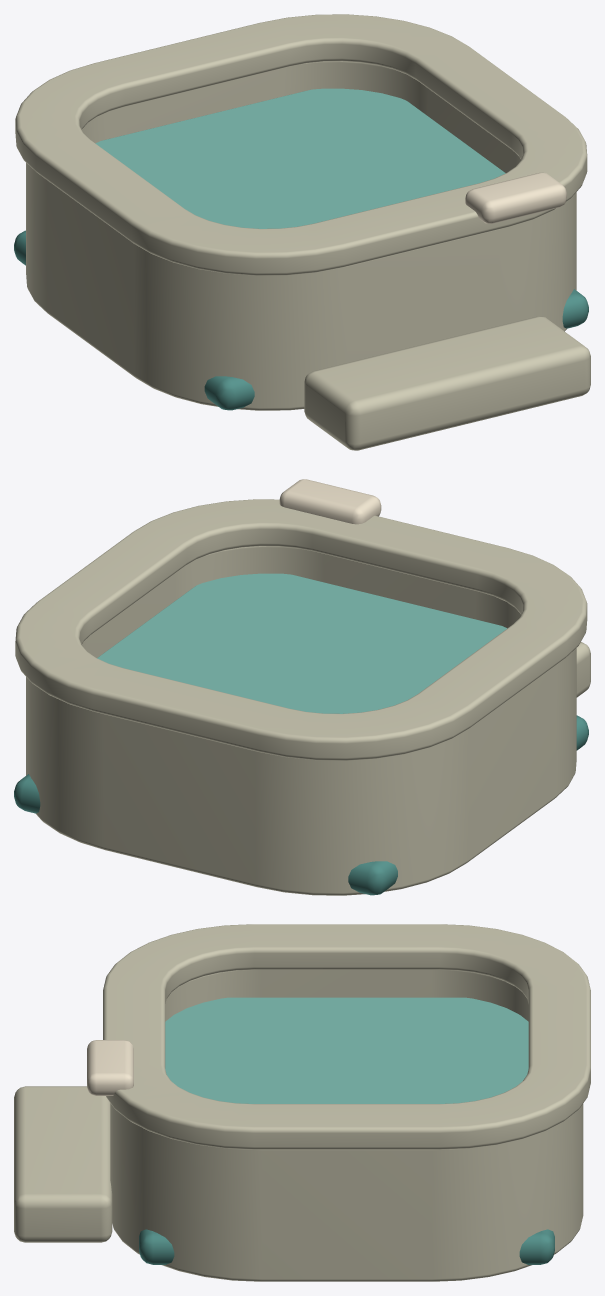
Rendered from plunge.glb.
3 views of the same model, one above another, from view 1: azimuth 30°, elevation 25°; view 2: azimuth 150°, elevation 25°; view 3: azimuth 270°, elevation 25° (orthographic). The views are drawn at different scales.
Parts seen in each view (by area): view 1: Body_stone, Water_water, Body_linen, Body_teal; view 2: Body_stone, Water_water, Body_linen, Body_teal; view 3: Body_stone, Water_water, Body_linen, Body_teal.
Boxes of the visible parts, x1,y1,x2,y2 form: Body_stone: (15,14,590,450); Water_water: (95,88,505,228); Body_linen: (465,172,566,223); Body_teal: (14,230,588,410); Body_stone: (15,499,590,895); Water_water: (97,573,506,713); Body_linen: (279,479,381,524); Body_teal: (14,715,588,895); Body_stone: (14,924,590,1281); Water_water: (165,997,528,1103); Body_linen: (87,1040,133,1095); Body_teal: (139,1229,554,1264).
Bounding box in the file's own units: 2.58 × 1.03 × 3.05.
